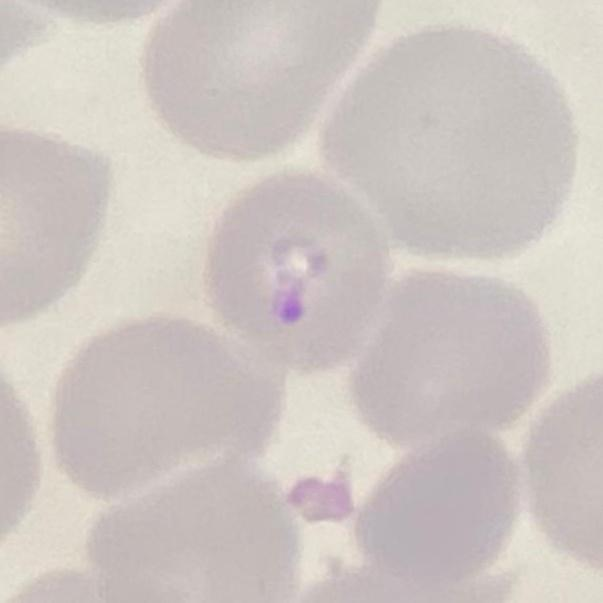Infected: (204, 171, 392, 365)
Uninfected: (322, 27, 576, 262), (51, 317, 285, 490), (350, 271, 556, 452), (143, 0, 372, 161), (88, 454, 302, 603), (353, 435, 525, 588)
